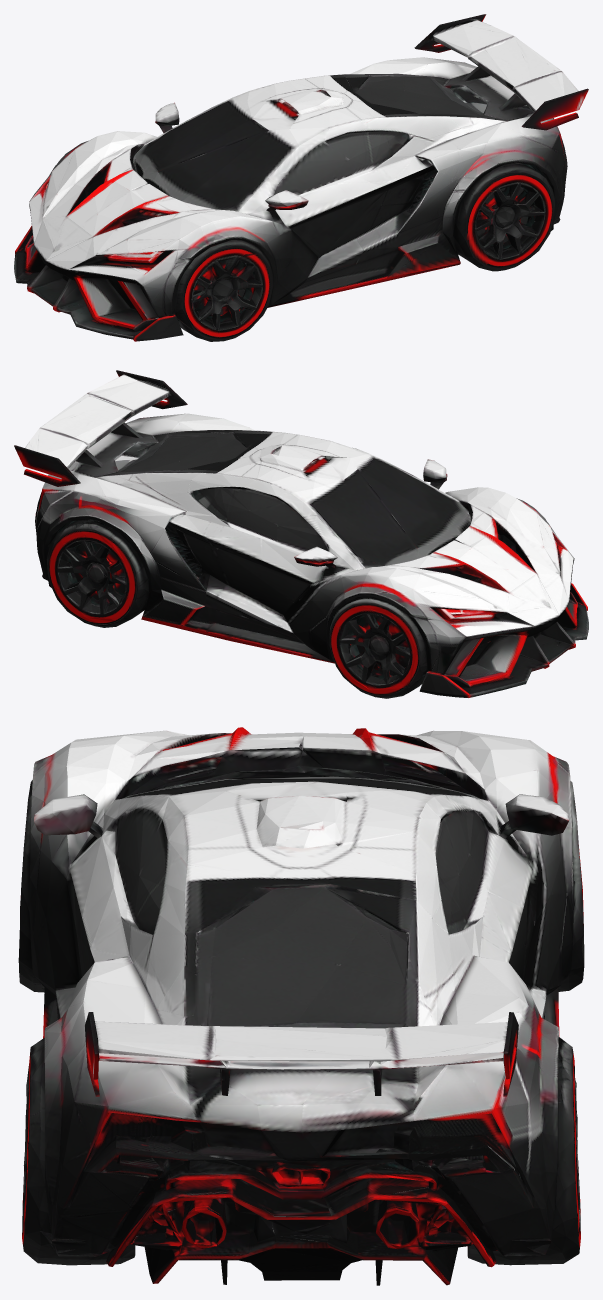
Rendered from midnight_phantom.glb.
3 renders of one model, top to bottom at view 1: azimuth 30°, elevation 25°; view 2: azimuth 150°, elevation 25°; view 3: azimuth 270°, elevation 25°, orthographic. The views are drawn at different scales.
Parts seen in each view (by area): view 1: geometry_0; view 2: geometry_0; view 3: geometry_0.
Boxes of the visible parts, bbox=[...] form: geometry_0: bbox=[14, 14, 588, 341]; geometry_0: bbox=[14, 370, 588, 698]; geometry_0: bbox=[18, 727, 584, 1285].
Size of the model in its own units: 1.9 by 0.5801 by 0.9292.
1 material, 1 textured.
